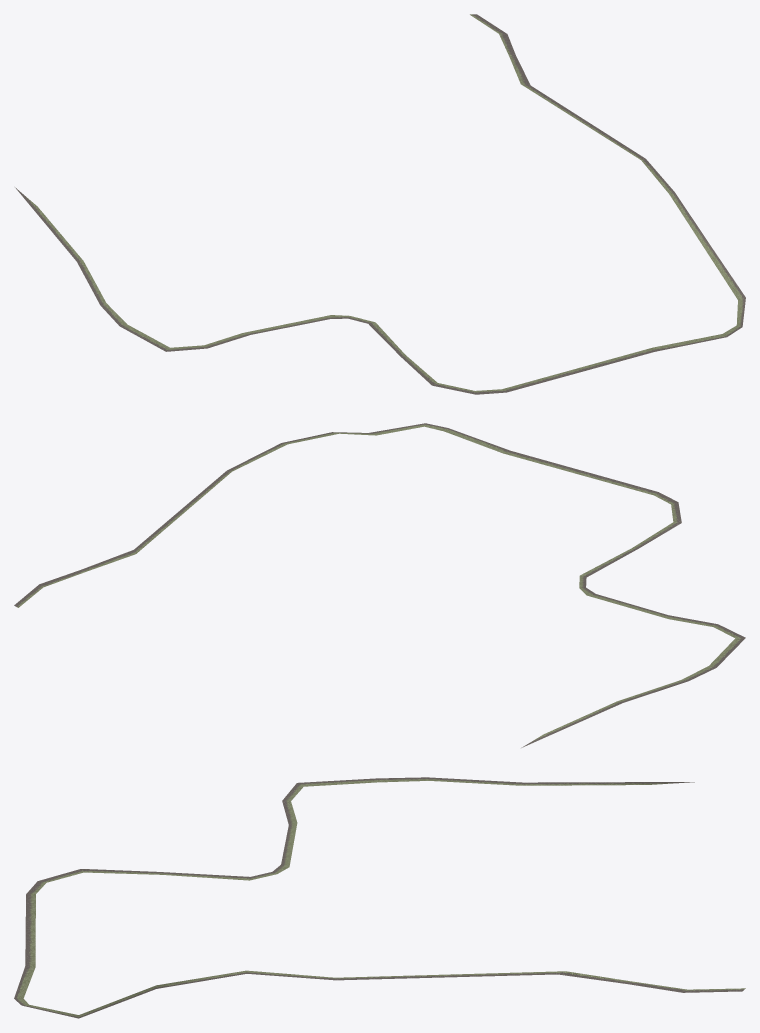
The model's file is kd_stage_135ded_4_131_bounded_piece_0.glb.
3 views of the same model, one above another, from view 1: azimuth 30°, elevation 25°; view 2: azimuth 150°, elevation 25°; view 3: azimuth 270°, elevation 25° (orthographic). The views are drawn at different scales.
Visible parts, largest first — view 1: kd_stage_135ded_4_131_bounded_piece_0; view 2: kd_stage_135ded_4_131_bounded_piece_0; view 3: kd_stage_135ded_4_131_bounded_piece_0.
Boxes of the visible parts, x1=… form: kd_stage_135ded_4_131_bounded_piece_0: x1=15, y1=14, x2=745, y2=394; kd_stage_135ded_4_131_bounded_piece_0: x1=14, y1=423, x2=745, y2=747; kd_stage_135ded_4_131_bounded_piece_0: x1=14, y1=777, x2=745, y2=1018.
Size of the model in its own units: 4.47 by 0.4681 by 5.
Materials: 1 (1 with a texture image).
